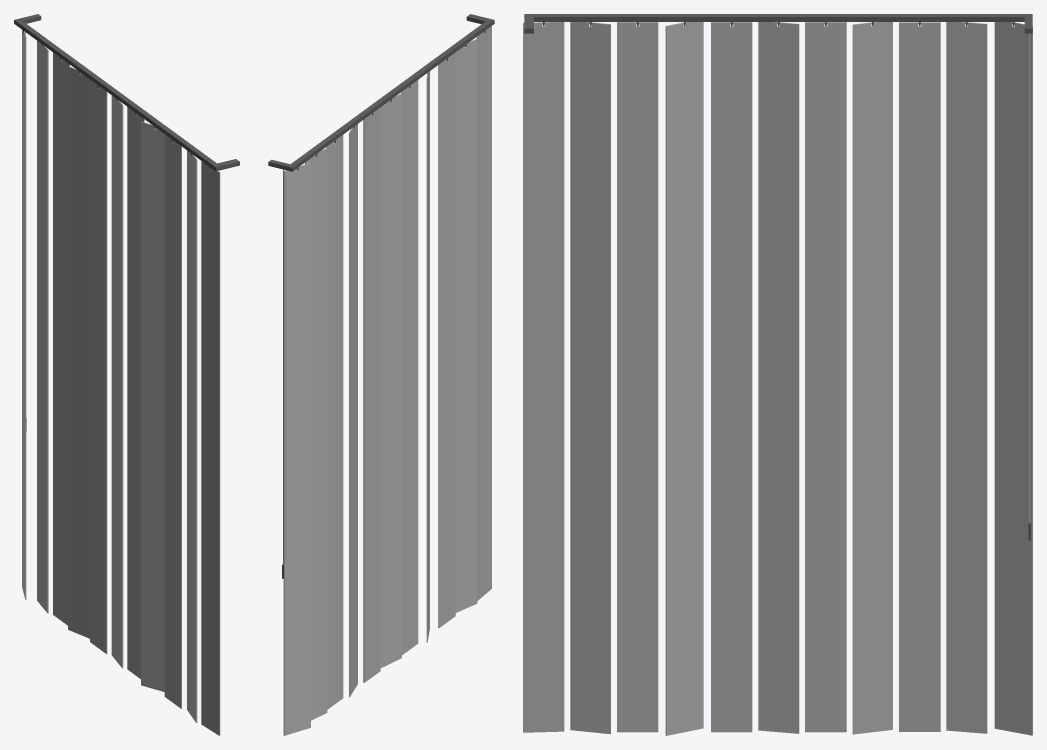
Rendered from Curtain07.fbx.
The picture shows the model from 3 angles, left to right: view 1: azimuth 30°, elevation 25°; view 2: azimuth 150°, elevation 25°; view 3: azimuth 270°, elevation 25°; orthographic projection. The views are drawn at different scales.
Visible parts, largest first — view 1: Curtain07; view 2: Curtain07; view 3: Curtain07.
Part boxes in pixels (x1,y1,x2,y2): Curtain07: (14,14,239,735); Curtain07: (268,14,494,735); Curtain07: (523,14,1032,735).
Bounding box in the file's own units: 0.1329 × 1.67 × 2.58.
